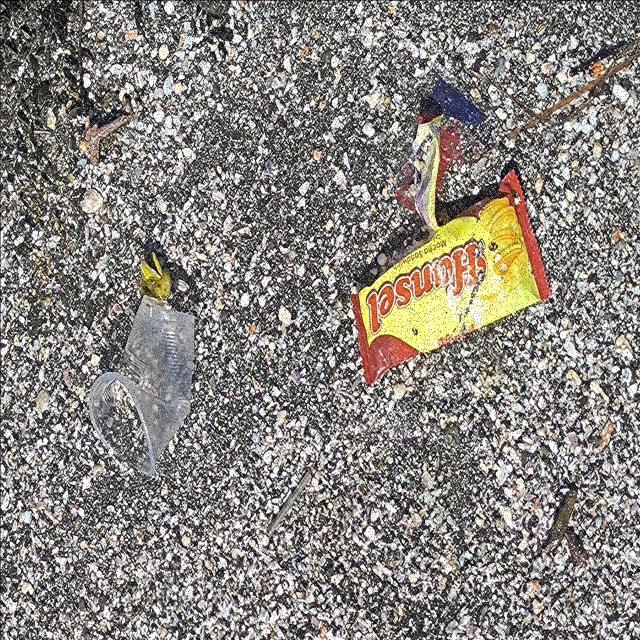plastic_waste: (352, 114, 553, 387), (89, 294, 196, 479)
